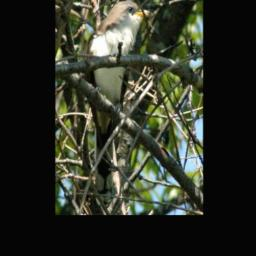Cuckoo: (82, 0, 155, 204)
